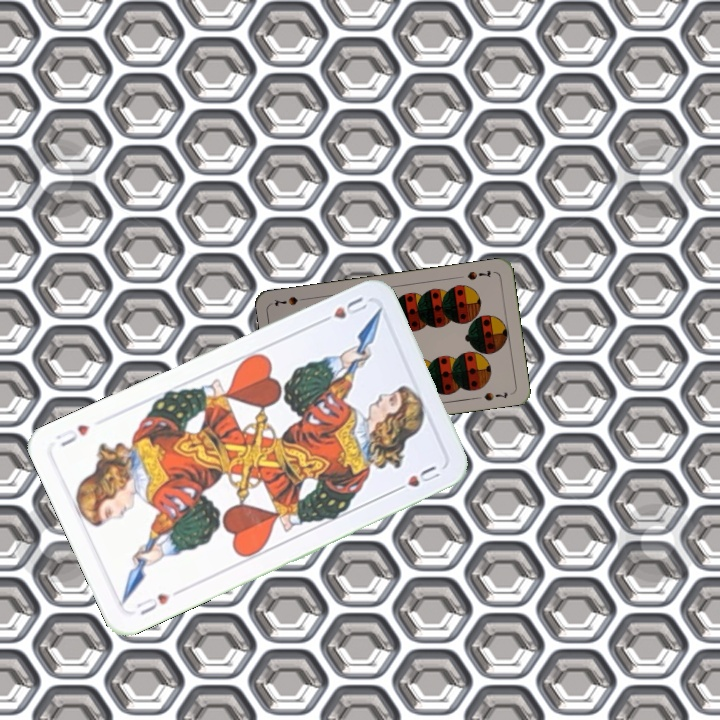HU: (314, 293, 370, 327), (132, 589, 173, 618)
S7: (463, 266, 493, 283)
